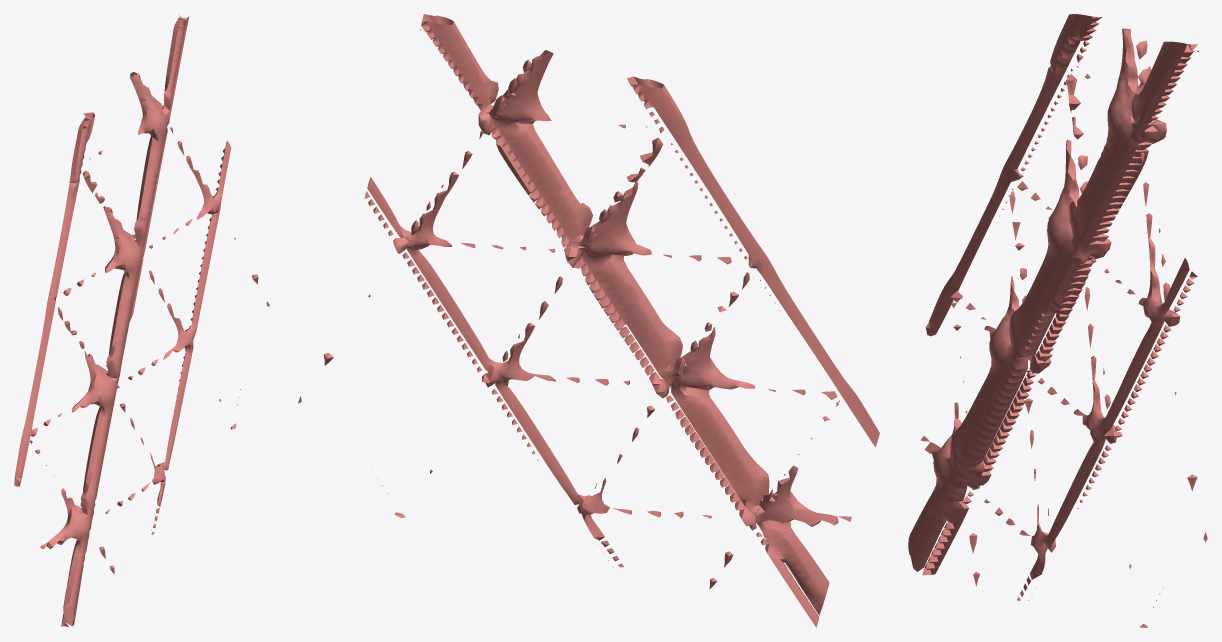
The model's file is detail.classical.dcfs.+.glb.
3 views of the same model, side by side, from view 1: azimuth 30°, elevation 25°; view 2: azimuth 150°, elevation 25°; view 3: azimuth 270°, elevation 25° (orthographic). The views are drawn at different scales.
Parts seen in each view (by area): view 1: detail.classical.dcfs.+; view 2: detail.classical.dcfs.+; view 3: detail.classical.dcfs.+.
Part boxes in pixels (x1,y1,x2,y2): detail.classical.dcfs.+: (14, 14, 269, 626); detail.classical.dcfs.+: (298, 14, 879, 627); detail.classical.dcfs.+: (908, 14, 1207, 627).
Size of the model in its own units: 1.48 by 1.97 by 0.7931.
